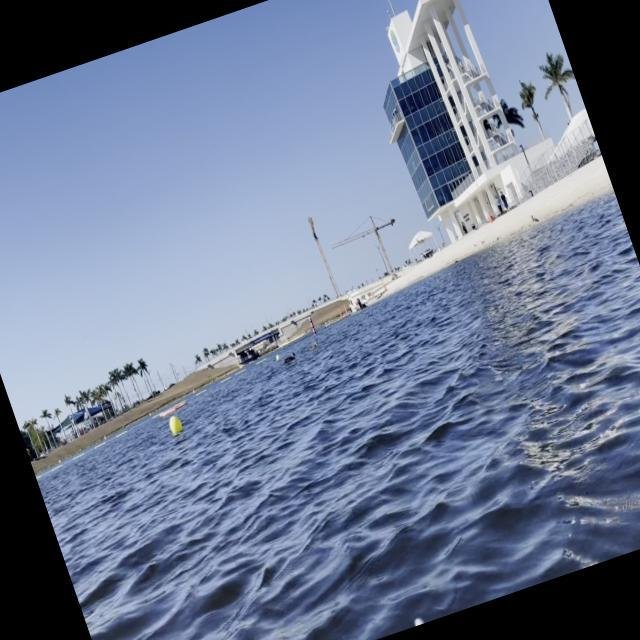buoy: (166, 412, 184, 438)
